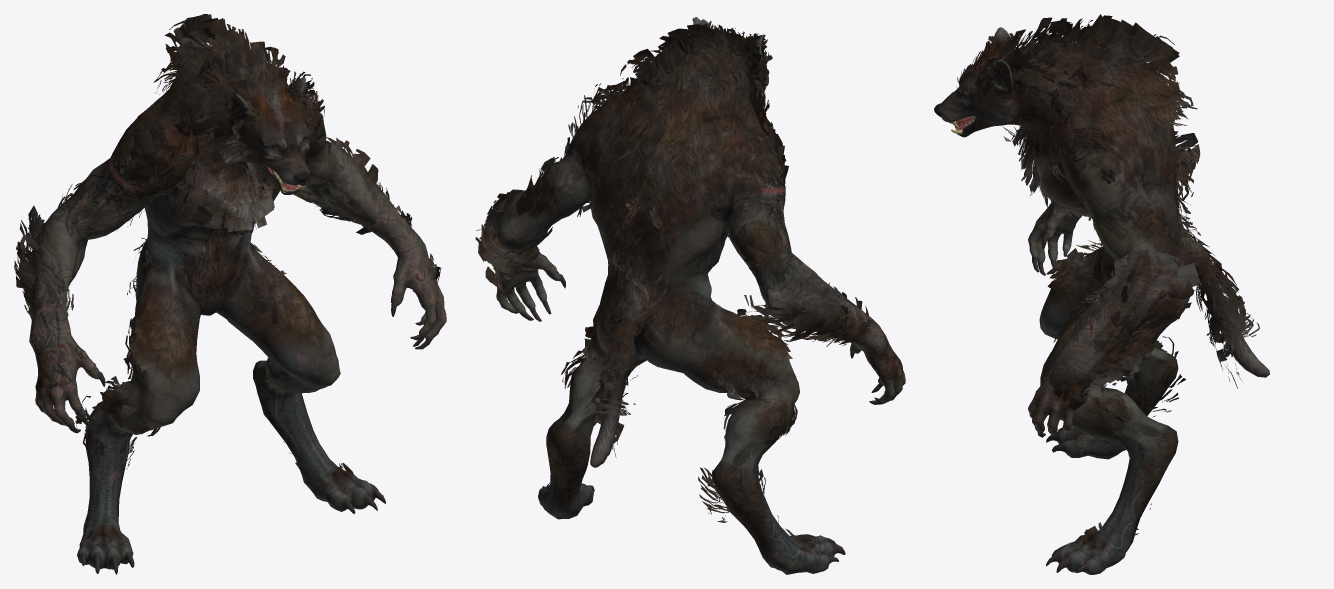
Rendered from alpha_werewolf.fbx.
3 views of the same model, side by side, from view 1: azimuth 30°, elevation 25°; view 2: azimuth 150°, elevation 25°; view 3: azimuth 270°, elevation 25° (orthographic). The views are drawn at different scales.
Visible parts, largest first — view 1: node_640dba3a_6b26_4651_bf00_0a3803b9ffc1_mesh0, node_05907a55_2e18_4e6f_8613_c9bf64f6dd0d_mesh0; view 2: node_640dba3a_6b26_4651_bf00_0a3803b9ffc1_mesh0, node_05907a55_2e18_4e6f_8613_c9bf64f6dd0d_mesh0; view 3: node_640dba3a_6b26_4651_bf00_0a3803b9ffc1_mesh0, node_05907a55_2e18_4e6f_8613_c9bf64f6dd0d_mesh0.
Part boxes in pixels (x1=…): node_640dba3a_6b26_4651_bf00_0a3803b9ffc1_mesh0: x1=29, y1=70, x2=446, y2=574; node_05907a55_2e18_4e6f_8613_c9bf64f6dd0d_mesh0: x1=14, y1=14, x2=441, y2=541; node_640dba3a_6b26_4651_bf00_0a3803b9ffc1_mesh0: x1=492, y1=18, x2=905, y2=574; node_05907a55_2e18_4e6f_8613_c9bf64f6dd0d_mesh0: x1=475, y1=17, x2=871, y2=540; node_640dba3a_6b26_4651_bf00_0a3803b9ffc1_mesh0: x1=934, y1=27, x2=1269, y2=574; node_05907a55_2e18_4e6f_8613_c9bf64f6dd0d_mesh0: x1=956, y1=14, x2=1259, y2=552.
Bounding box in the file's own units: 213 × 250 × 177.
3 materials, 3 textured.
